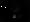person: (15, 9, 23, 18)
